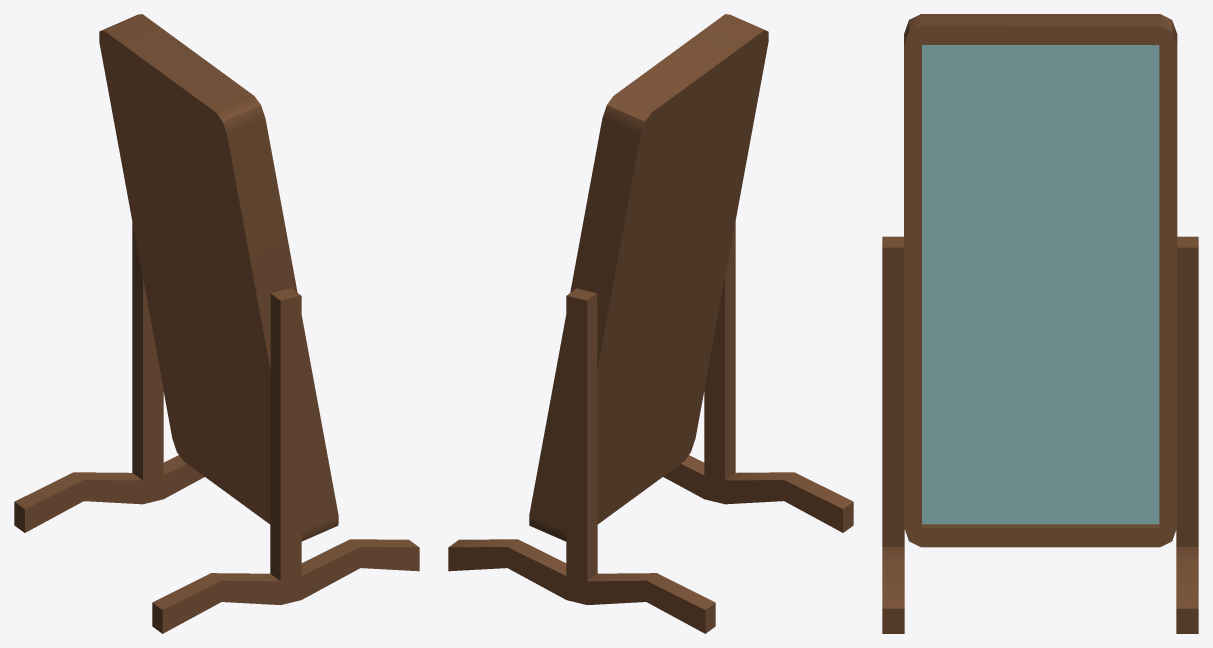
File: geo_Mirror_01.fbx
3 views of the same model, side by side, from view 1: azimuth 30°, elevation 25°; view 2: azimuth 150°, elevation 25°; view 3: azimuth 270°, elevation 25° (orthographic). The views are drawn at different scales.
Parts seen in each view (by area): view 1: geo_MirrorBase_01, geo_MirrorLeg_01, geo_MirrorLeg_02; view 2: geo_MirrorBase_01, geo_MirrorLeg_02, geo_MirrorLeg_01; view 3: geo_MirrorBase_01, geo_MirrorLeg_01, geo_MirrorLeg_02.
Boxes of the visible parts, x1=… form: geo_MirrorBase_01: x1=99, y1=14, x2=338, y2=541; geo_MirrorLeg_01: x1=152, y1=288, x2=419, y2=633; geo_MirrorLeg_02: x1=14, y1=222, x2=204, y2=532; geo_MirrorBase_01: x1=529, y1=14, x2=768, y2=541; geo_MirrorLeg_02: x1=448, y1=288, x2=715, y2=633; geo_MirrorLeg_01: x1=663, y1=222, x2=853, y2=532; geo_MirrorBase_01: x1=904, y1=14, x2=1177, y2=547; geo_MirrorLeg_01: x1=882, y1=236, x2=904, y2=633; geo_MirrorLeg_02: x1=1176, y1=236, x2=1198, y2=633.
Bounding box in the file's own units: 66.65 × 123 × 66.59.
